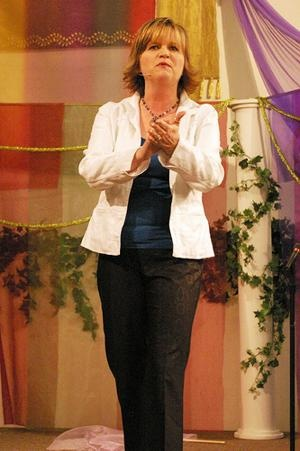person without safety: (76, 18, 226, 388)
